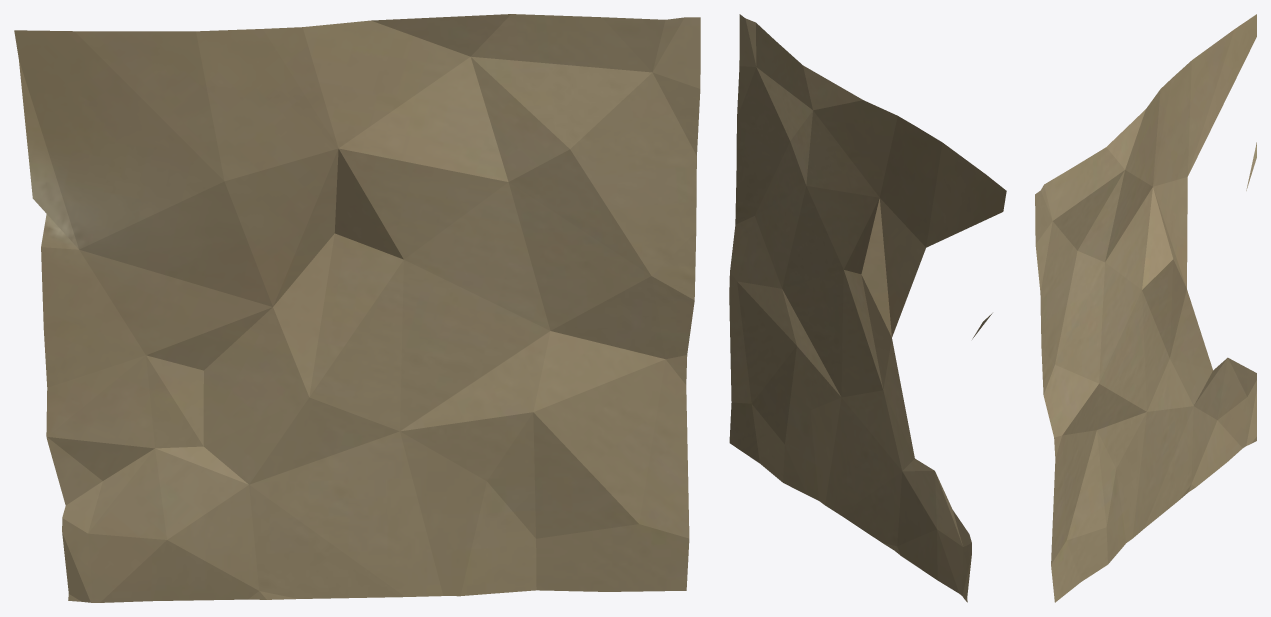
3 renders of one model, left to right at view 1: azimuth 30°, elevation 25°; view 2: azimuth 150°, elevation 25°; view 3: azimuth 270°, elevation 25°, orthographic. The views are drawn at different scales.
Size of the model in its own units: 0.7928 by 0.8374 by 0.4122.
3 materials, 3 textured.
